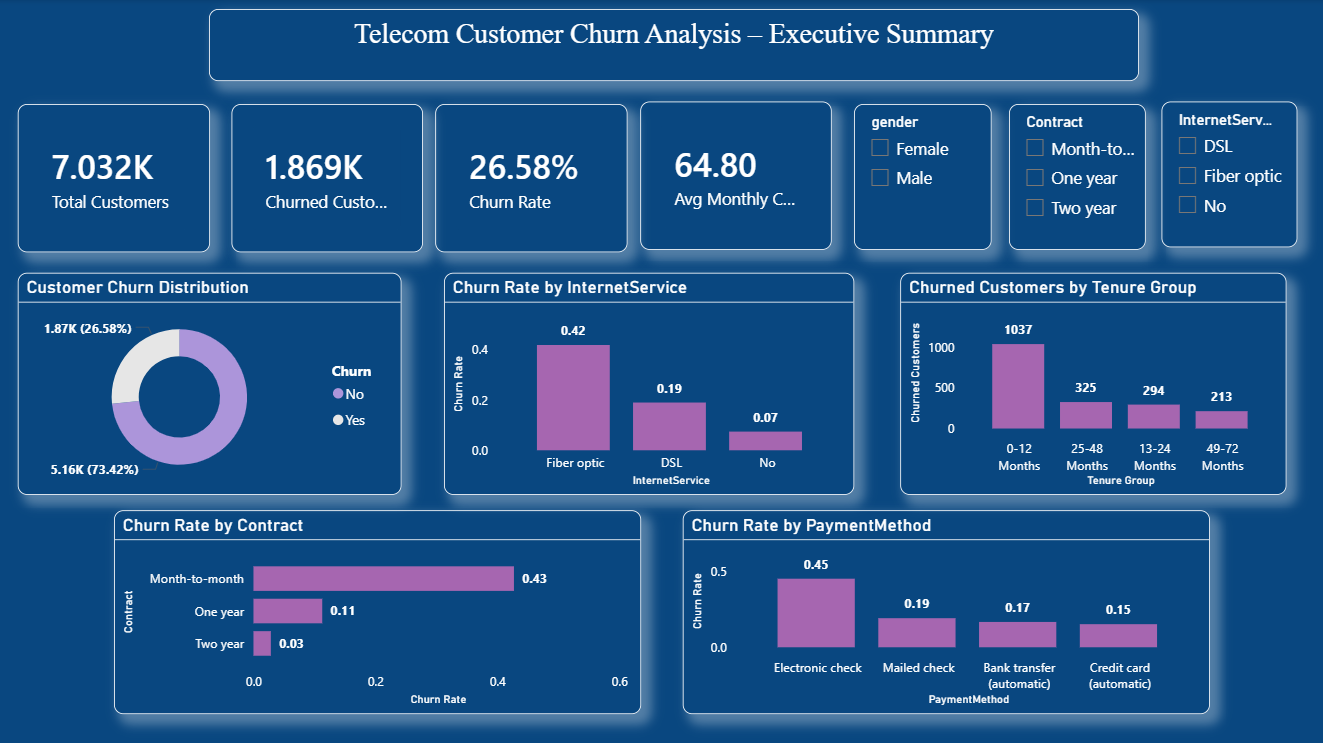

What the dashboard file says about the page in this screenshot:
{"tool":"powerbi","page":{"name":"Page 1","canvas":[1280,720],"ordinal":0},"visuals":[{"type":"cardVisual","fields":{"Data":["customer_churn_cleaned.Total Customers"]},"box":[18.1,101.3,185.8,143.6],"z":0},{"type":"cardVisual","fields":{"Data":["customer_churn_cleaned.Churned Customers"]},"box":[224.4,101.3,184.6,143.6],"z":1000},{"type":"cardVisual","fields":{"Data":["customer_churn_cleaned.Churn Rate"]},"box":[421,101.3,185.8,143.6],"z":2000},{"type":"cardVisual","fields":{"Data":["customer_churn_cleaned.Avg Monthly Charges"]},"box":[618.9,98.9,185,143.6],"z":3000},{"type":"donutChart","title":"Customer Churn Distribution","fields":{"Category":["customer_churn_cleaned.Churn"],"Y":["CountNonNull(customer_churn_cleaned.customerID)"]},"box":[18.1,264.2,370.4,214.7],"z":4000},{"type":"clusteredBarChart","fields":{"Category":["customer_churn_cleaned.Contract"],"Y":["customer_churn_cleaned.Churn Rate"]},"box":[111,493.4,509.1,196.6],"z":5000},{"type":"clusteredColumnChart","fields":{"Category":["customer_churn_cleaned.PaymentMethod"],"Y":["customer_churn_cleaned.Churn Rate"]},"box":[659.9,493.4,509.1,196.6],"z":6000},{"type":"clusteredColumnChart","fields":{"Category":["customer_churn_cleaned.InternetService"],"Y":["customer_churn_cleaned.Churn Rate"]},"box":[429.5,264.2,395.7,214.7],"z":7000},{"type":"clusteredColumnChart","fields":{"Category":["customer_churn_cleaned.Tenure Group"],"Y":["customer_churn_cleaned.Churned Customers"]},"box":[869.8,264.2,372.8,214.7],"z":8000},{"type":"slicer","fields":{"Values":["customer_churn_cleaned.gender"]},"box":[825.2,101.3,132.7,141.2],"z":9000},{"type":"slicer","fields":{"Values":["customer_churn_cleaned.Contract"]},"box":[974.8,101.3,132,141.2],"z":10000},{"type":"slicer","fields":{"Values":["customer_churn_cleaned.InternetService"]},"box":[1122,98.9,131.5,141.2],"z":11000},{"type":"textbox","box":[202.7,9.7,897.6,70],"z":12000}]}

Visuals, with their boxes in screenshot pixels (x1, y1, x2, y2), scaled from the page's 1280x720 canvas onto the 1323x743 screenshot:
cardVisual - customer_churn_cleaned.Total Customers: [19,105,211,253]
cardVisual - customer_churn_cleaned.Churned Customers: [232,105,423,253]
cardVisual - customer_churn_cleaned.Churn Rate: [435,105,627,253]
cardVisual - customer_churn_cleaned.Avg Monthly Charges: [640,102,831,250]
"Customer Churn Distribution" donutChart: [19,273,402,494]
clusteredBarChart - customer_churn_cleaned.Contract x customer_churn_cleaned.Churn Rate: [115,509,641,712]
clusteredColumnChart - customer_churn_cleaned.PaymentMethod x customer_churn_cleaned.Churn Rate: [682,509,1208,712]
clusteredColumnChart - customer_churn_cleaned.InternetService x customer_churn_cleaned.Churn Rate: [444,273,853,494]
clusteredColumnChart - customer_churn_cleaned.Tenure Group x customer_churn_cleaned.Churned Customers: [899,273,1284,494]
slicer - customer_churn_cleaned.gender: [853,105,990,250]
slicer - customer_churn_cleaned.Contract: [1008,105,1144,250]
slicer - customer_churn_cleaned.InternetService: [1160,102,1296,248]
textbox: [210,10,1137,82]
